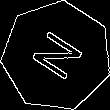N_SE: (24, 26, 89, 87)
